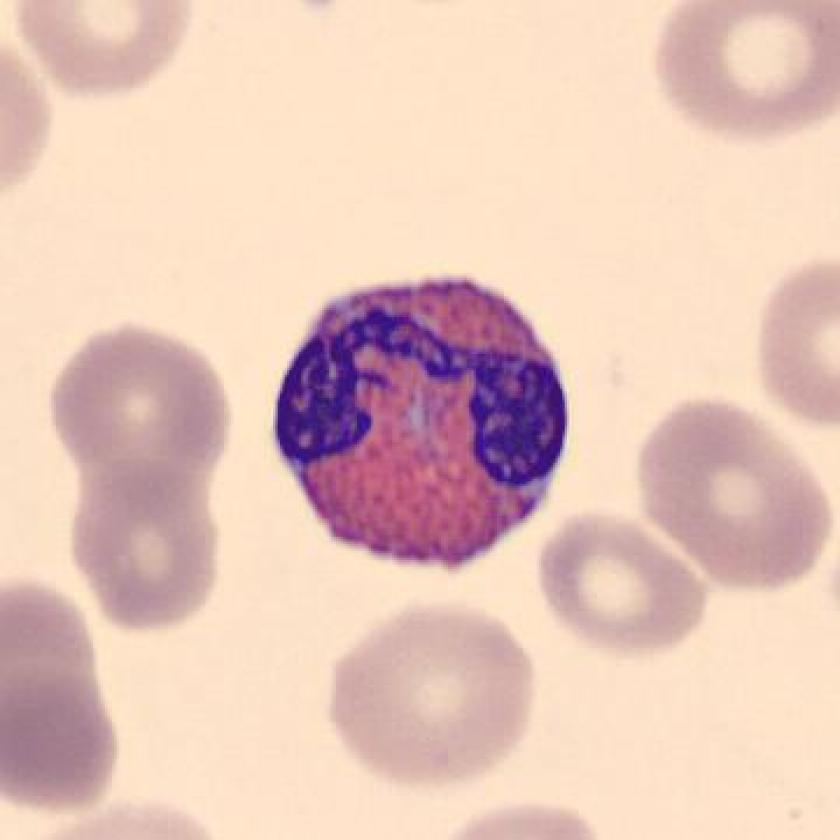eosinophil: (262, 253, 580, 580)
